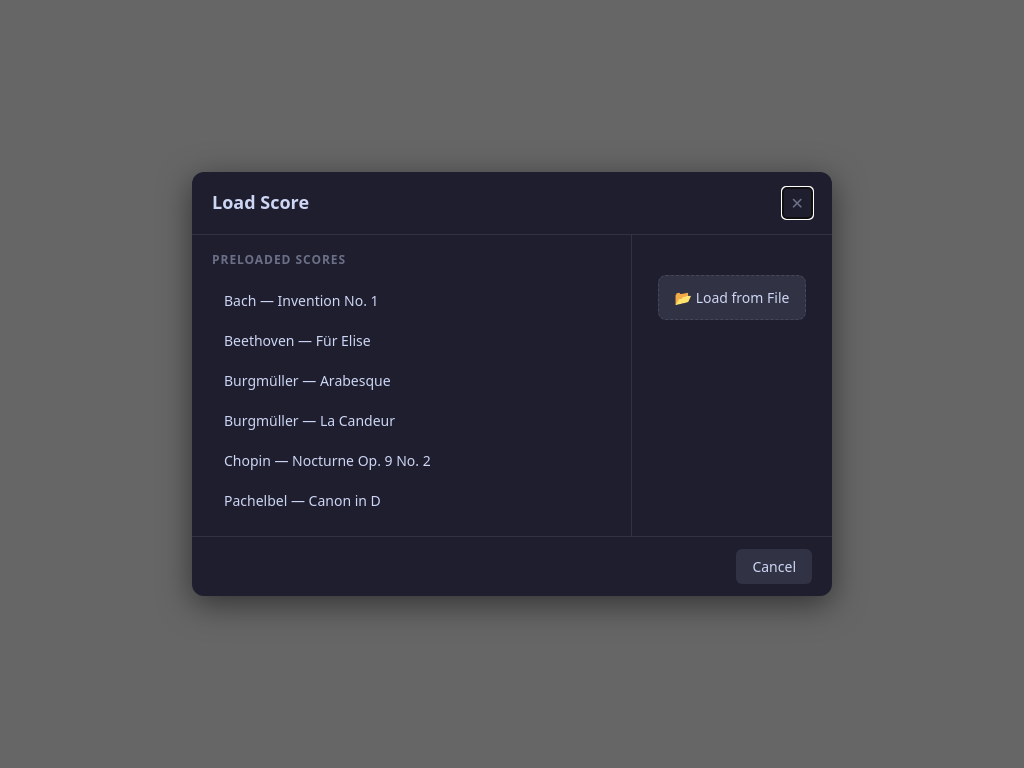
LoadScoreDialog — preloaded score selection › shows loading state while fetchin a preloaded score
// Click the first score button
Click the button "Bach — Invention No. 1": [301, 300] box [212,281,611,319]
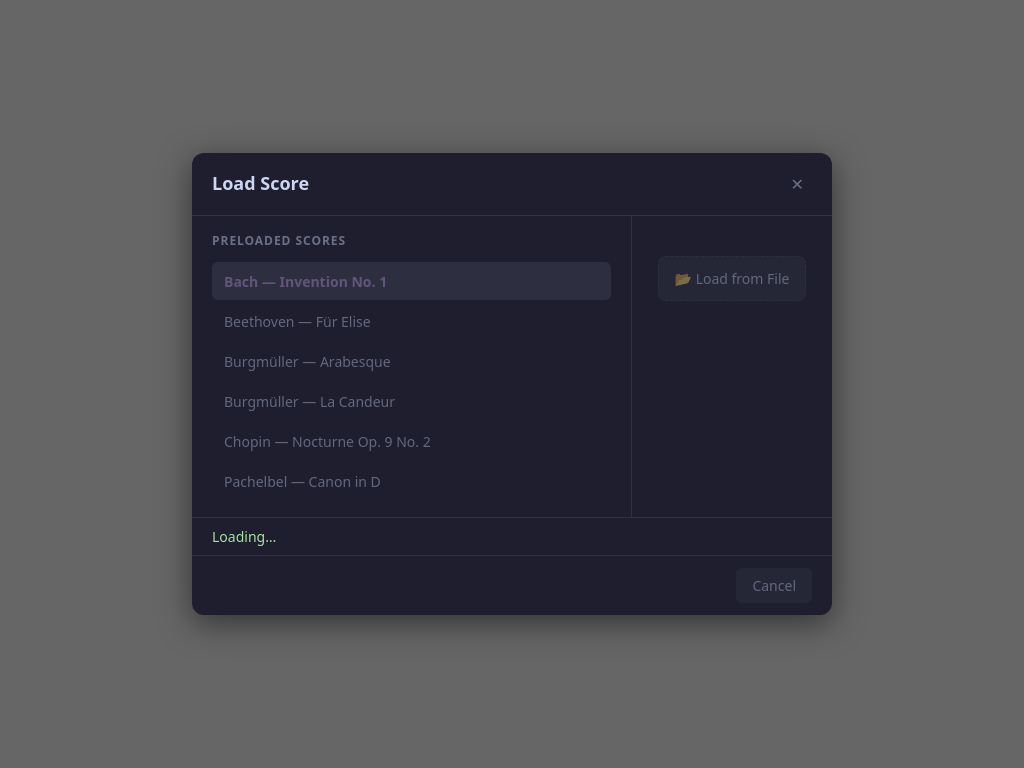
Check: the message "Loading…" is shown, box [192,517,832,555]
